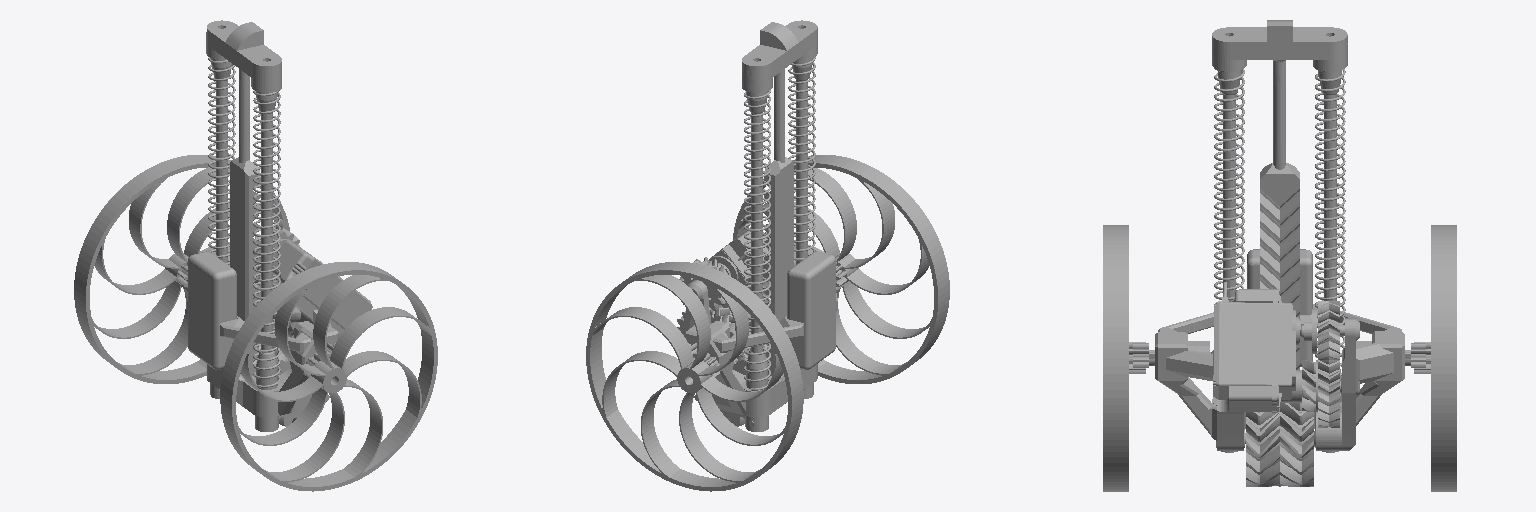
The robot description file, URDF, robot "eecs4421_1d_hopper":
<?xml version="1.0" ?>
<!-- =================================================================================== -->
<!-- |    This document was autogenerated by xacro from eecs4421_1d_hopper_wrapper.xacro | -->
<!-- |    EDITING THIS FILE BY HAND IS NOT RECOMMENDED                                 | -->
<!-- =================================================================================== -->
<robot name="eecs4421_1d_hopper">
  <material name="silver">
    <color rgba="0.700 0.700 0.700 1.000"/>
  </material>
  <!-- Note: .trans and .gazebo files are for ROS/Gazebo, not needed for PyBullet -->
  <link name="base_link">
    <inertial>
      <origin rpy="0 0 0" xyz="-0.013514090010165696 0.00024331067916718278 0.0690405797342188"/>
      <mass value="0.2824006607720704"/>
      <inertia ixx="0.001426" ixy="0.0" ixz="-5e-06" iyy="0.001359" iyz="0.0" izz="7.2e-05"/>
    </inertial>
    <visual>
      <origin rpy="0 0 0" xyz="0 0 0"/>
      <geometry>
        <mesh filename="meshes/base_link.stl" scale="0.001 0.001 0.001"/>
      </geometry>
      <material name="silver"/>
    </visual>
    <collision>
      <origin rpy="0 0 0" xyz="0 0 0"/>
      <geometry>
        <mesh filename="meshes/base_link.stl" scale="0.001 0.001 0.001"/>
      </geometry>
    </collision>
  </link>
  <link name="Spring_2_1_v1_1_1_1">
    <inertial>
      <origin rpy="0 0 0" xyz="2.9307851018650632e-05 -4.8964241178072604e-05 -0.08138700684547578"/>
      <mass value="0.012593013169921327"/>
      <inertia ixx="3.2e-05" ixy="0.0" ixz="-0.0" iyy="3.2e-05" iyz="0.0" izz="1e-06"/>
    </inertial>
    <visual>
      <origin rpy="0 0 0" xyz="0.013319 0.022758 -0.135804"/>
      <geometry>
        <mesh filename="meshes/Spring_2_1_v1_1_1_1.stl" scale="0.001 0.001 0.001"/>
      </geometry>
      <material name="silver"/>
    </visual>
    <collision>
      <origin rpy="0 0 0" xyz="0.013319 0.022758 -0.135804"/>
      <geometry>
        <mesh filename="meshes/Spring_2_1_v1_1_1_1.stl" scale="0.001 0.001 0.001"/>
      </geometry>
    </collision>
  </link>
  <link name="Spring_1_1_v1_1_1_1_1">
    <inertial>
      <origin rpy="0 0 0" xyz="-0.00010111466336726847 -1.1734179564099056e-05 -0.08138700684547563"/>
      <mass value="0.012593013169921313"/>
      <inertia ixx="3.2e-05" ixy="0.0" ixz="-0.0" iyy="3.2e-05" iyz="0.0" izz="1e-06"/>
    </inertial>
    <visual>
      <origin rpy="0 0 0" xyz="0.013319 -0.023242 -0.135804"/>
      <geometry>
        <mesh filename="meshes/Spring_1_1_v1_1_1_1_1.stl" scale="0.001 0.001 0.001"/>
      </geometry>
      <material name="silver"/>
    </visual>
    <collision>
      <origin rpy="0 0 0" xyz="0.013319 -0.023242 -0.135804"/>
      <geometry>
        <mesh filename="meshes/Spring_1_1_v1_1_1_1_1.stl" scale="0.001 0.001 0.001"/>
      </geometry>
    </collision>
  </link>
  <link name="5x63mm_Aluminium_Rod__2_1_v1_1">
    <inertial>
      <origin rpy="0 0 0" xyz="-3.6128128096460377e-07 0.03160000806298522 -3.623302492258146e-07"/>
      <mass value="0.009741293420618765"/>
      <inertia ixx="3e-06" ixy="-0.0" ixz="0.0" iyy="0.0" iyz="0.0" izz="3e-06"/>
    </inertial>
    <visual>
      <origin rpy="0 0 0" xyz="-0.014983 0.028358 0.013297"/>
      <geometry>
        <mesh filename="meshes/5x63mm_Aluminium_Rod__2_1_v1_1.stl" scale="0.001 0.001 0.001"/>
      </geometry>
      <material name="silver"/>
    </visual>
    <collision>
      <origin rpy="0 0 0" xyz="-0.014983 0.028358 0.013297"/>
      <geometry>
        <mesh filename="meshes/5x63mm_Aluminium_Rod__2_1_v1_1.stl" scale="0.001 0.001 0.001"/>
      </geometry>
    </collision>
  </link>
  <link name="motor_1_v1_1">
    <inertial>
      <origin rpy="0 0 0" xyz="-0.014789621893783248 0.003124183549591557 0.014757253552300956"/>
      <mass value="0.24917752024157286"/>
      <inertia ixx="5.5e-05" ixy="1e-06" ixz="1.4e-05" iyy="4.4e-05" iyz="-1e-06" izz="5.5e-05"/>
    </inertial>
    <visual>
      <origin rpy="0 0 0" xyz="-0.03902 0.013546 0.00552"/>
      <geometry>
        <mesh filename="meshes/motor_1_v1_1.stl" scale="0.001 0.001 0.001"/>
      </geometry>
      <material name="silver"/>
    </visual>
    <collision>
      <origin rpy="0 0 0" xyz="-0.03902 0.013546 0.00552"/>
      <geometry>
        <mesh filename="meshes/motor_1_v1_1.stl" scale="0.001 0.001 0.001"/>
      </geometry>
    </collision>
  </link>
  <link name="wheel_2_complete_1_v2_1">
    <inertial>
      <origin rpy="0 0 0" xyz="-3.3718511046375646e-06 -0.013584361592914915 6.754300349003789e-07"/>
      <mass value="0.14618559800198688"/>
      <inertia ixx="0.00019" ixy="-0.0" ixz="0.0" iyy="0.000375" iyz="0.0" izz="0.00019"/>
    </inertial>
    <visual>
      <origin rpy="0 0 0" xyz="0.006473 0.060708 0.008985"/>
      <geometry>
        <mesh filename="meshes/wheel_2_complete_1_v2_1.stl" scale="0.001 0.001 0.001"/>
      </geometry>
      <material name="silver"/>
    </visual>
    <collision>
      <origin rpy="0 0 0" xyz="0.006473 0.060708 0.008985"/>
      <geometry>
        <mesh filename="meshes/wheel_2_complete_1_v2_1.stl" scale="0.001 0.001 0.001"/>
      </geometry>
    </collision>
  </link>
  <link name="wheel_1_complete_1_v1_1">
    <inertial>
      <origin rpy="0 0 0" xyz="-3.3718467262128585e-06 0.013584378715335813 6.754317408552007e-07"/>
      <mass value="0.14618560543842687"/>
      <inertia ixx="0.00019" ixy="0.0" ixz="0.0" iyy="0.000375" iyz="-0.0" izz="0.00019"/>
    </inertial>
    <visual>
      <origin rpy="0 0 0" xyz="0.006473 -0.061292 0.008985"/>
      <geometry>
        <mesh filename="meshes/wheel_1_complete_1_v1_1.stl" scale="0.001 0.001 0.001"/>
      </geometry>
      <material name="silver"/>
    </visual>
    <collision>
      <origin rpy="0 0 0" xyz="0.006473 -0.061292 0.008985"/>
      <geometry>
        <mesh filename="meshes/wheel_1_complete_1_v1_1.stl" scale="0.001 0.001 0.001"/>
      </geometry>
    </collision>
  </link>
  <link name="Motor_1_1_v1_1">
    <inertial>
      <origin rpy="0 0 0" xyz="0.004996649817929426 -0.011974487243527066 -0.005999973775597767"/>
      <mass value="0.022989886144955934"/>
      <inertia ixx="2e-06" ixy="0.0" ixz="-0.0" iyy="0.0" iyz="-0.0" izz="1e-06"/>
    </inertial>
    <visual>
      <origin rpy="0 0 0" xyz="0.002382 -0.057202 -0.002506"/>
      <geometry>
        <mesh filename="meshes/Motor_1_1_v1_1.stl" scale="0.001 0.001 0.001"/>
      </geometry>
      <material name="silver"/>
    </visual>
    <collision>
      <origin rpy="0 0 0" xyz="0.002382 -0.057202 -0.002506"/>
      <geometry>
        <mesh filename="meshes/Motor_1_1_v1_1.stl" scale="0.001 0.001 0.001"/>
      </geometry>
    </collision>
  </link>
  <link name="Motor_2_1_v1_1">
    <inertial>
      <origin rpy="0 0 0" xyz="0.004996649817928127 0.01197450461385928 -0.005999973775597859"/>
      <mass value="0.022989886144955944"/>
      <inertia ixx="2e-06" ixy="-0.0" ixz="-0.0" iyy="0.0" iyz="0.0" izz="1e-06"/>
    </inertial>
    <visual>
      <origin rpy="0 0 0" xyz="0.002382 0.056758 -0.002506"/>
      <geometry>
        <mesh filename="meshes/Motor_2_1_v1_1.stl" scale="0.001 0.001 0.001"/>
      </geometry>
      <material name="silver"/>
    </visual>
    <collision>
      <origin rpy="0 0 0" xyz="0.002382 0.056758 -0.002506"/>
      <geometry>
        <mesh filename="meshes/Motor_2_1_v1_1.stl" scale="0.001 0.001 0.001"/>
      </geometry>
    </collision>
  </link>
  <link name="Motor_Gear_1_1_v1_1">
    <inertial>
      <origin rpy="0 0 0" xyz="1.8784622158076348e-05 0.0035000093073439473 -3.869260724927853e-08"/>
      <mass value="0.002745880235689738"/>
      <inertia ixx="0.0" ixy="0.0" ixz="0.0" iyy="0.0" iyz="0.0" izz="0.0"/>
    </inertial>
    <visual>
      <origin rpy="0 0 0" xyz="-0.002573 -0.060202 0.003523"/>
      <geometry>
        <mesh filename="meshes/Motor_Gear_1_1_v1_1.stl" scale="0.001 0.001 0.001"/>
      </geometry>
      <material name="silver"/>
    </visual>
    <collision>
      <origin rpy="0 0 0" xyz="-0.002573 -0.060202 0.003523"/>
      <geometry>
        <mesh filename="meshes/Motor_Gear_1_1_v1_1.stl" scale="0.001 0.001 0.001"/>
      </geometry>
    </collision>
  </link>
  <link name="Second_Gear_1_v1_1">
    <inertial>
      <origin rpy="0 0 0" xyz="-3.611020787941399e-10 -0.013996863973097079 -1.9367322502683582e-10"/>
      <mass value="0.12592322311736695"/>
      <inertia ixx="2.7e-05" ixy="0.0" ixz="0.0" iyy="1.4e-05" iyz="-0.0" izz="2.7e-05"/>
    </inertial>
    <visual>
      <origin rpy="0 0 0" xyz="-0.015 -0.027842 0.0133"/>
      <geometry>
        <mesh filename="meshes/Second_Gear_1_v1_1.stl" scale="0.001 0.001 0.001"/>
      </geometry>
      <material name="silver"/>
    </visual>
    <collision>
      <origin rpy="0 0 0" xyz="-0.015 -0.027842 0.0133"/>
      <geometry>
        <mesh filename="meshes/Second_Gear_1_v1_1.stl" scale="0.001 0.001 0.001"/>
      </geometry>
    </collision>
  </link>
  <link name="Motor_Gear_2_1_v1_1">
    <inertial>
      <origin rpy="0 0 0" xyz="1.8936466043807058e-05 -0.0034999919370117746 6.437635519541268e-08"/>
      <mass value="0.002745880235689775"/>
      <inertia ixx="0.0" ixy="-0.0" ixz="0.0" iyy="0.0" iyz="0.0" izz="0.0"/>
    </inertial>
    <visual>
      <origin rpy="0 0 0" xyz="-0.002571 0.059758 0.003498"/>
      <geometry>
        <mesh filename="meshes/Motor_Gear_2_1_v1_1.stl" scale="0.001 0.001 0.001"/>
      </geometry>
      <material name="silver"/>
    </visual>
    <collision>
      <origin rpy="0 0 0" xyz="-0.002571 0.059758 0.003498"/>
      <geometry>
        <mesh filename="meshes/Motor_Gear_2_1_v1_1.stl" scale="0.001 0.001 0.001"/>
      </geometry>
    </collision>
  </link>
  <link name="2S_LiPo_1_v1_1">
    <inertial>
      <origin rpy="0 0 0" xyz="-0.006999631251769917 8.692172037070818e-09 -6.845474279440489e-09"/>
      <mass value="0.17561484928297033"/>
      <inertia ixx="5.6e-05" ixy="-0.0" ixz="-0.0" iyy="4.6e-05" iyz="0.0" izz="1.5e-05"/>
    </inertial>
    <visual>
      <origin rpy="0 0 0" xyz="0.025319 -0.000242 -0.004004"/>
      <geometry>
        <mesh filename="meshes/2S_LiPo_1_v1_1.stl" scale="0.001 0.001 0.001"/>
      </geometry>
      <material name="silver"/>
    </visual>
    <collision>
      <origin rpy="0 0 0" xyz="0.025319 -0.000242 -0.004004"/>
      <geometry>
        <mesh filename="meshes/2S_LiPo_1_v1_1.stl" scale="0.001 0.001 0.001"/>
      </geometry>
    </collision>
  </link>
  <link name="moving_frame_1_v1_1">
    <inertial>
      <origin rpy="0 0 0" xyz="0.013616715709348168 0.021707483601140144 0.02951565572802407"/>
      <mass value="0.4412684216504674"/>
      <inertia ixx="0.000588" ixy="1.7e-05" ixz="-3.8e-05" iyy="0.000281" iyz="1.8e-05" izz="0.000543"/>
    </inertial>
    <visual>
      <origin rpy="0 0 0" xyz="0.013319 0.022758 0.047996"/>
      <geometry>
        <mesh filename="meshes/moving_frame_1_v1_1.stl" scale="0.001 0.001 0.001"/>
      </geometry>
      <material name="silver"/>
    </visual>
    <collision>
      <origin rpy="0 0 0" xyz="0.013319 0.022758 0.047996"/>
      <geometry>
        <mesh filename="meshes/moving_frame_1_v1_1.stl" scale="0.001 0.001 0.001"/>
      </geometry>
    </collision>
  </link>
  <link name="Main_Gear_1_v1_1">
    <inertial>
      <origin rpy="0 0 0" xyz="0.0006468404293882742 -0.015599991892107774 0.0003664112445932455"/>
      <mass value="0.2816436332857111"/>
      <inertia ixx="5.2e-05" ixy="0.0" ixz="1e-06" iyy="5.5e-05" iyz="0.0" izz="5e-05"/>
    </inertial>
    <visual>
      <origin rpy="0 0 0" xyz="-0.009058 -0.015842 0.042609"/>
      <geometry>
        <mesh filename="meshes/Main_Gear_1_v1_1.stl" scale="0.001 0.001 0.001"/>
      </geometry>
      <material name="silver"/>
    </visual>
    <collision>
      <origin rpy="0 0 0" xyz="-0.009058 -0.015842 0.042609"/>
      <geometry>
        <mesh filename="meshes/Main_Gear_1_v1_1.stl" scale="0.001 0.001 0.001"/>
      </geometry>
    </collision>
  </link>
  <link name="5x63mm_Aluminium_Rod__1_1_v1_1">
    <inertial>
      <origin rpy="0 0 0" xyz="3.687482312830781e-07 0.03160000806298602 -6.8453424872938484e-09"/>
      <mass value="0.009741293420618774"/>
      <inertia ixx="3e-06" ixy="-0.0" ixz="0.0" iyy="0.0" iyz="-0.0" izz="3e-06"/>
    </inertial>
    <visual>
      <origin rpy="0 0 0" xyz="-0.008981 0.028358 0.042496"/>
      <geometry>
        <mesh filename="meshes/5x63mm_Aluminium_Rod__1_1_v1_1.stl" scale="0.001 0.001 0.001"/>
      </geometry>
      <material name="silver"/>
    </visual>
    <collision>
      <origin rpy="0 0 0" xyz="-0.008981 0.028358 0.042496"/>
      <geometry>
        <mesh filename="meshes/5x63mm_Aluminium_Rod__1_1_v1_1.stl" scale="0.001 0.001 0.001"/>
      </geometry>
    </collision>
  </link>
  <link name="Servo_Gear_1_v1_1">
    <inertial>
      <origin rpy="0 0 0" xyz="1.5808685818741175e-09 -0.004999991936778844 1.045276603502121e-07"/>
      <mass value="0.033507073455686986"/>
      <inertia ixx="2e-06" ixy="-0.0" ixz="0.0" iyy="3e-06" iyz="0.0" izz="2e-06"/>
    </inertial>
    <visual>
      <origin rpy="0 0 0" xyz="-0.017412 -0.027842 -0.016062"/>
      <geometry>
        <mesh filename="meshes/Servo_Gear_1_v1_1.stl" scale="0.001 0.001 0.001"/>
      </geometry>
      <material name="silver"/>
    </visual>
    <collision>
      <origin rpy="0 0 0" xyz="-0.017412 -0.027842 -0.016062"/>
      <geometry>
        <mesh filename="meshes/Servo_Gear_1_v1_1.stl" scale="0.001 0.001 0.001"/>
      </geometry>
    </collision>
  </link>
  <link name="Servo_Pin_5x16mm_1_v1_1">
    <inertial>
      <origin rpy="0 0 0" xyz="3.991380445426962e-07 -0.007999991937014558 -6.481572515509848e-08"/>
      <mass value="0.0024661502330680964"/>
      <inertia ixx="0.0" ixy="-0.0" ixz="-0.0" iyy="0.0" iyz="-0.0" izz="0.0"/>
    </inertial>
    <visual>
      <origin rpy="0 0 0" xyz="-0.017409 -0.036842 -0.016098"/>
      <geometry>
        <mesh filename="meshes/Servo_Pin_5x16mm_1_v1_1.stl" scale="0.001 0.001 0.001"/>
      </geometry>
      <material name="silver"/>
    </visual>
    <collision>
      <origin rpy="0 0 0" xyz="-0.017409 -0.036842 -0.016098"/>
      <geometry>
        <mesh filename="meshes/Servo_Pin_5x16mm_1_v1_1.stl" scale="0.001 0.001 0.001"/>
      </geometry>
    </collision>
  </link>
  <joint name="spring_2_sliding" type="prismatic">
    <origin rpy="0 0 0" xyz="-0.013319 -0.022758 0.135804"/>
    <parent link="base_link"/>
    <child link="Spring_2_1_v1_1_1_1"/>
    <axis xyz="0.0 0.0 -1.0"/>
    <limit effort="100" lower="0.0" upper="0.015" velocity="100"/>
  </joint>
  <joint name="spring_1_sliding" type="prismatic">
    <origin rpy="0 0 0" xyz="-0.013319 0.023242 0.135804"/>
    <parent link="base_link"/>
    <child link="Spring_1_1_v1_1_1_1_1"/>
    <axis xyz="0.0 0.0 -1.0"/>
    <limit effort="100" lower="0.0" upper="0.015" velocity="100"/>
  </joint>
  <joint name="secondary_gear_axle_to_frame" type="fixed">
    <origin rpy="0 0 0" xyz="0.028302 -0.0056 0.034699"/>
    <parent link="moving_frame_1_v1_1"/>
    <child link="5x63mm_Aluminium_Rod__2_1_v1_1"/>
  </joint>
  <joint name="motor_to_frame" type="fixed">
    <origin rpy="0 0 0" xyz="0.052339 0.009212 0.042476"/>
    <parent link="moving_frame_1_v1_1"/>
    <child link="motor_1_v1_1"/>
  </joint>
  <joint name="wheel_2_to_frame" type="continuous">
    <origin rpy="0 0 0" xyz="0.006846 -0.03795 0.039011"/>
    <parent link="moving_frame_1_v1_1"/>
    <child link="wheel_2_complete_1_v2_1"/>
    <axis xyz="0.0 1.0 -0.0"/>
  </joint>
  <joint name="wheel_1_to_frame" type="continuous">
    <origin rpy="0 0 0" xyz="0.006846 0.08405 0.039011"/>
    <parent link="moving_frame_1_v1_1"/>
    <child link="wheel_1_complete_1_v1_1"/>
    <axis xyz="-0.0 -1.0 0.0"/>
  </joint>
  <joint name="motor_1_to_frame" type="fixed">
    <origin rpy="0 0 0" xyz="0.010937 0.07996 0.050502"/>
    <parent link="moving_frame_1_v1_1"/>
    <child link="Motor_1_1_v1_1"/>
  </joint>
  <joint name="motor_2_to_frame" type="fixed">
    <origin rpy="0 0 0" xyz="0.010937 -0.034 0.050502"/>
    <parent link="moving_frame_1_v1_1"/>
    <child link="Motor_2_1_v1_1"/>
  </joint>
  <joint name="motor_gear_1_revolution" type="continuous">
    <origin rpy="0 0 0" xyz="0.004955 0.003 -0.006029"/>
    <parent link="Motor_1_1_v1_1"/>
    <child link="Motor_Gear_1_1_v1_1"/>
    <axis xyz="0.0 1.0 0.0"/>
  </joint>
  <joint name="secondary_gear_revolution" type="continuous">
    <origin rpy="0 0 0" xyz="1.7e-05 0.0562 -3e-06"/>
    <parent link="5x63mm_Aluminium_Rod__2_1_v1_1"/>
    <child link="Second_Gear_1_v1_1"/>
    <axis xyz="0.0 1.0 0.0"/>
  </joint>
  <joint name="motor_gear_2_revolution" type="continuous">
    <origin rpy="0 0 0" xyz="0.004953 -0.003 -0.006004"/>
    <parent link="Motor_2_1_v1_1"/>
    <child link="Motor_Gear_2_1_v1_1"/>
    <axis xyz="-0.0 -1.0 -0.0"/>
  </joint>
  <joint name="lipo_to_frame" type="fixed">
    <origin rpy="0 0 0" xyz="-0.012 0.023 0.052"/>
    <parent link="moving_frame_1_v1_1"/>
    <child link="2S_LiPo_1_v1_1"/>
  </joint>
  <joint name="moving_frame_to_base_link" type="prismatic">
    <origin rpy="0 0 0" xyz="-0.013319 -0.022758 -0.047996"/>
    <parent link="base_link"/>
    <child link="moving_frame_1_v1_1"/>
    <axis xyz="-0.0 -0.0 1.0"/>
    <limit effort="100" lower="0.0" upper="0.139" velocity="100"/>
  </joint>
  <joint name="main_gear_revolution" type="continuous">
    <origin rpy="0 0 0" xyz="7.7e-05 0.0442 -0.000113"/>
    <parent link="5x63mm_Aluminium_Rod__1_1_v1_1"/>
    <child link="Main_Gear_1_v1_1"/>
    <axis xyz="0.0 1.0 0.0"/>
  </joint>
  <joint name="main_gear_axle_to_moving_frame" type="fixed">
    <origin rpy="0 0 0" xyz="0.0223 -0.0056 0.0055"/>
    <parent link="moving_frame_1_v1_1"/>
    <child link="5x63mm_Aluminium_Rod__1_1_v1_1"/>
  </joint>
  <joint name="servo_gear_revolution" type="continuous">
    <origin rpy="0 0 0" xyz="3e-06 -0.009 -3.6e-05"/>
    <parent link="Servo_Pin_5x16mm_1_v1_1"/>
    <child link="Servo_Gear_1_v1_1"/>
    <axis xyz="0.0 1.0 -0.0"/>
  </joint>
  <joint name="servo_pin_to_frame" type="fixed">
    <origin rpy="0 0 0" xyz="0.030728 0.0596 0.064094"/>
    <parent link="moving_frame_1_v1_1"/>
    <child link="Servo_Pin_5x16mm_1_v1_1"/>
  </joint>
  <!-- No world link - base_link is the root link and will be free in PyBullet -->
  <!-- 1D motion will be constrained via code using _clamp_to_1d() method -->
</robot>

--- Render facts (derived) ---
The picture shows the robot from 3 angles, left to right: view 1: azimuth 30°, elevation 25°; view 2: azimuth 150°, elevation 25°; view 3: azimuth 270°, elevation 25°; orthographic projection.
Model eecs4421_1d_hopper with 18 links and 17 joints (7 continuous, 3 prismatic, 7 fixed), rooted at base_link, posed all joints at 0.
Visible links, largest first — view 1: wheel_2_complete_1_v2_1, wheel_1_complete_1_v1_1, base_link, moving_frame_1_v1_1, 2S_LiPo_1_v1_1, Spring_2_1_v1_1_1_1, Spring_1_1_v1_1_1_1_1, motor_1_v1_1; view 2: wheel_1_complete_1_v1_1, wheel_2_complete_1_v2_1, base_link, moving_frame_1_v1_1, 2S_LiPo_1_v1_1, Spring_1_1_v1_1_1_1_1, Spring_2_1_v1_1_1_1, motor_1_v1_1, Second_Gear_1_v1_1, Servo_Gear_1_v1_1; view 3: base_link, moving_frame_1_v1_1, motor_1_v1_1, wheel_1_complete_1_v1_1, wheel_2_complete_1_v2_1, Main_Gear_1_v1_1, Spring_1_1_v1_1_1_1_1, Spring_2_1_v1_1_1_1, Second_Gear_1_v1_1, 2S_LiPo_1_v1_1, Servo_Gear_1_v1_1.
Boxes of the visible links, x1,y1,x2,y2 form: wheel_2_complete_1_v2_1: (220,262,437,491); wheel_1_complete_1_v1_1: (74,155,289,383); base_link: (206,20,281,431); moving_frame_1_v1_1: (186,240,372,417); 2S_LiPo_1_v1_1: (188,251,236,369); Spring_2_1_v1_1_1_1: (253,90,280,387); Spring_1_1_v1_1_1_1_1: (208,57,235,264); motor_1_v1_1: (273,239,371,329); wheel_1_complete_1_v1_1: (586,262,803,491); wheel_2_complete_1_v2_1: (733,155,949,383); base_link: (742,20,817,431); moving_frame_1_v1_1: (685,228,837,417); 2S_LiPo_1_v1_1: (787,251,835,369); Spring_1_1_v1_1_1_1_1: (744,90,770,390); Spring_2_1_v1_1_1_1: (788,57,815,262); motor_1_v1_1: (683,227,770,304); Second_Gear_1_v1_1: (677,303,750,364); Servo_Gear_1_v1_1: (679,257,730,310); base_link: (1212,20,1347,452); moving_frame_1_v1_1: (1149,289,1410,450); motor_1_v1_1: (1213,282,1316,412); wheel_1_complete_1_v1_1: (1414,225,1456,491); wheel_2_complete_1_v2_1: (1103,225,1145,491); Main_Gear_1_v1_1: (1246,403,1313,486); Spring_1_1_v1_1_1_1_1: (1315,68,1345,395); Spring_2_1_v1_1_1_1: (1214,68,1244,304); Second_Gear_1_v1_1: (1281,360,1339,427); 2S_LiPo_1_v1_1: (1247,249,1312,366); Servo_Gear_1_v1_1: (1318,301,1339,359).
Bounding box of the posed robot: 0.122 × 0.162 × 0.2288 m (x, y, z).
Meshes: 18 distinct files referenced, 18 mesh visuals loaded (18 binary STL).
